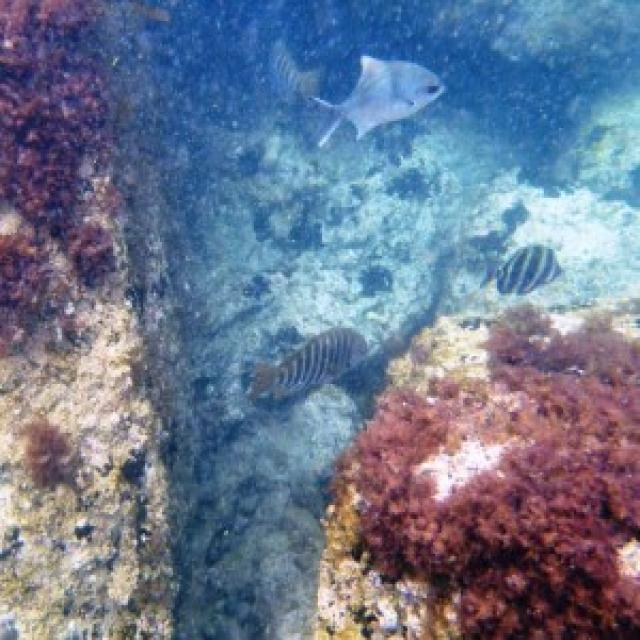Healthy: (334, 306, 639, 639), (1, 1, 123, 352)
